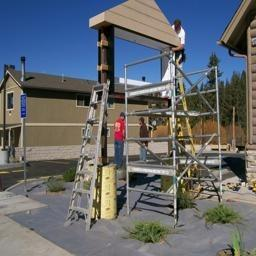no hat: (173, 16, 186, 37), (116, 108, 129, 126), (135, 115, 150, 130)
no vest: (168, 29, 189, 61), (112, 120, 128, 149), (138, 124, 153, 147)
